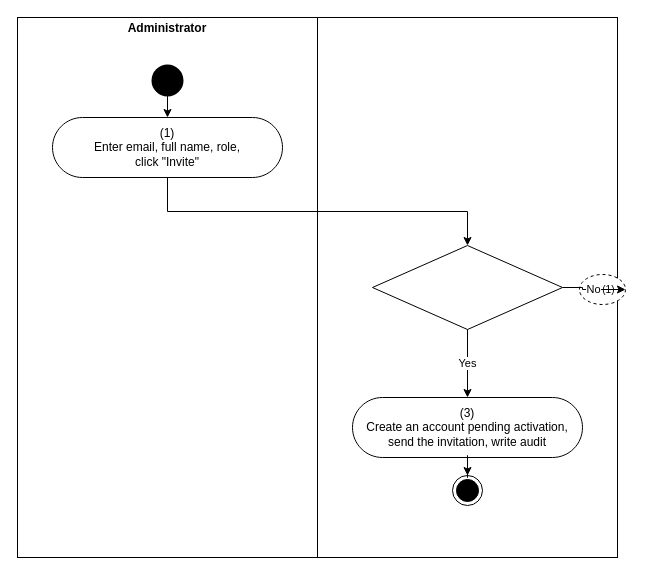
Image size: 651x575. Some labels were removed from this diagram. Each missing label, with the box of its shape:
(2) Valid?: (372, 244, 562, 330)
System: (316, 16, 618, 558)
